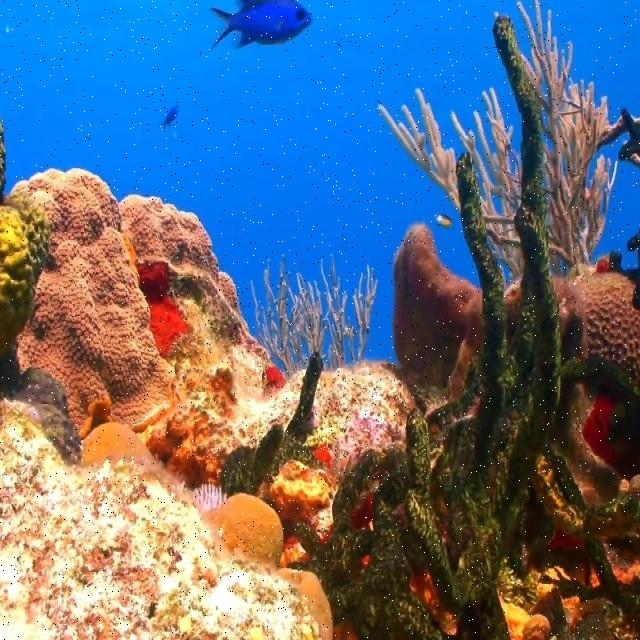aquatic plants: (292, 13, 639, 639)
fish: (211, 0, 312, 51)
reefs: (0, 166, 483, 636)
